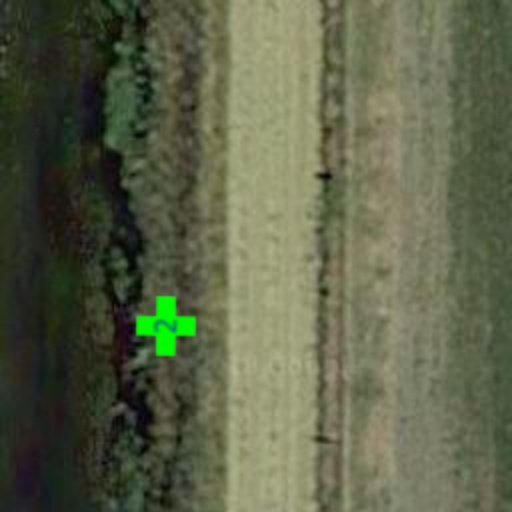cross: (136, 296, 196, 356)
